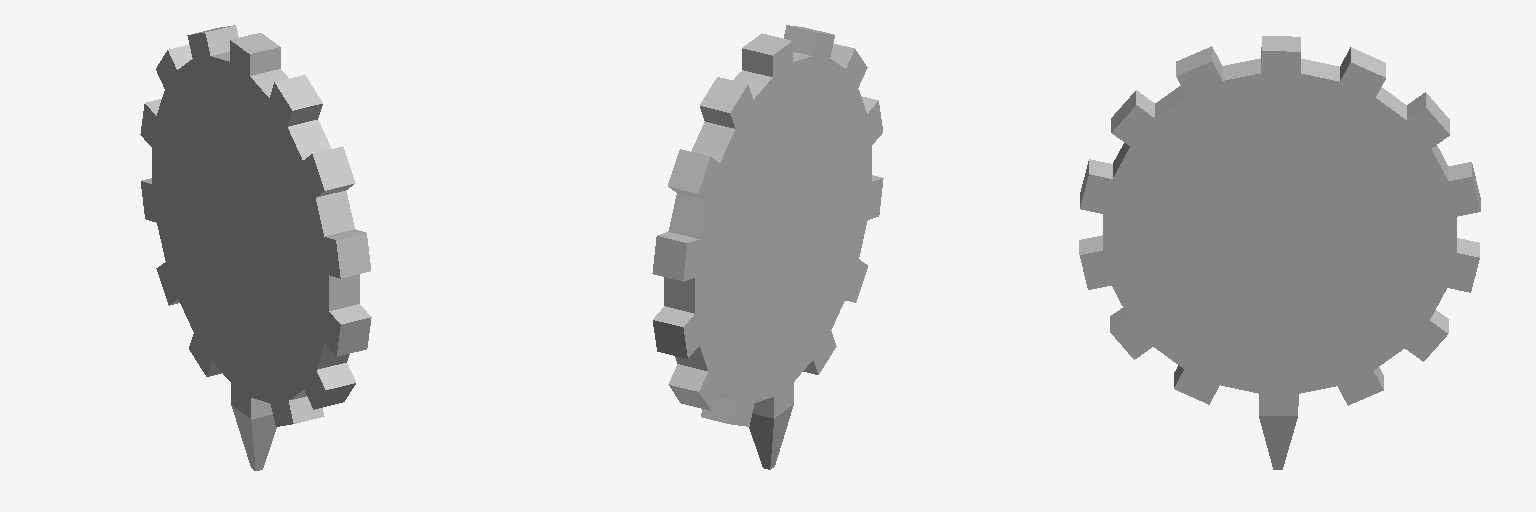
File: gear_000011.obj
3 views of the same model, side by side, from view 1: azimuth 30°, elevation 25°; view 2: azimuth 150°, elevation 25°; view 3: azimuth 270°, elevation 25° (orthographic).
Parts seen in each view (by area): view 1: gear_Cylinder.001; view 2: gear_Cylinder.001; view 3: gear_Cylinder.001.
Part boxes in pixels (left/top/right/bottom): gear_Cylinder.001: left=140, top=25, right=371, bottom=470; gear_Cylinder.001: left=652, top=25, right=883, bottom=469; gear_Cylinder.001: left=1079, top=36, right=1480, bottom=469.
Size of the model in its own units: 0.1 by 1.32 by 1.13.